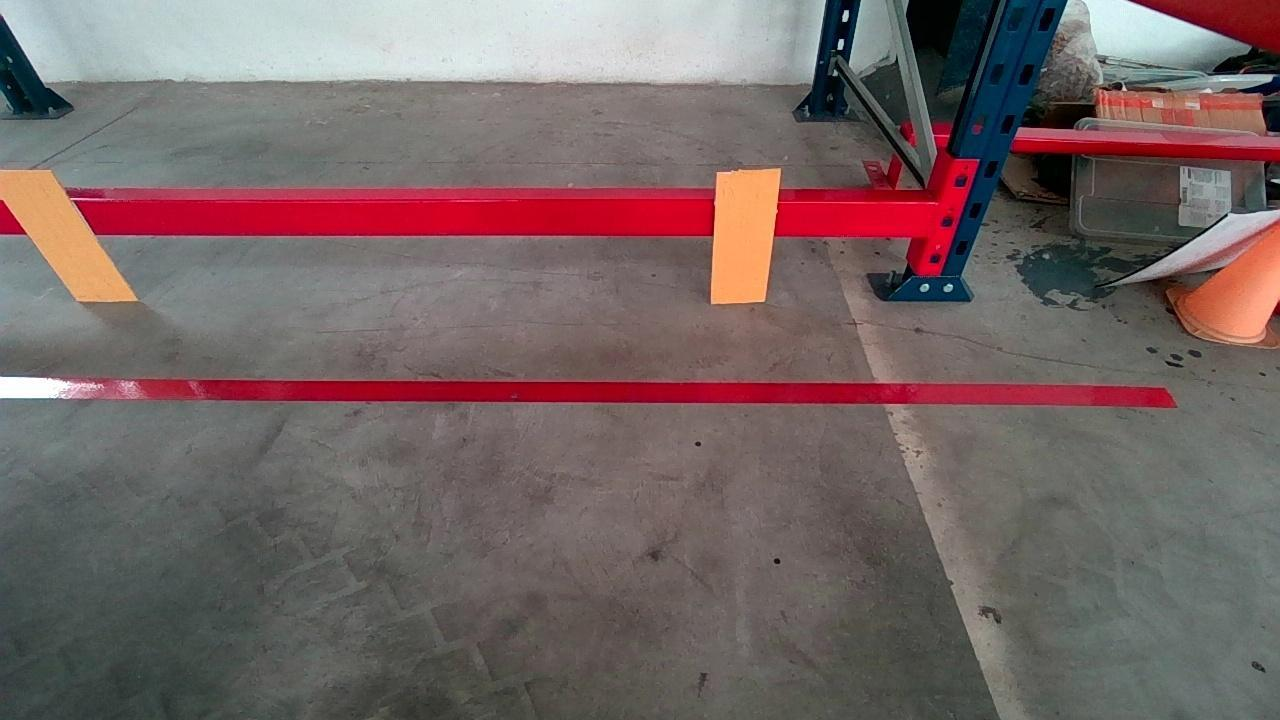h_rack: (11, 191, 948, 240)
orange_strip: (0, 174, 138, 303), (711, 169, 778, 302)
red_line: (4, 371, 1158, 414)
